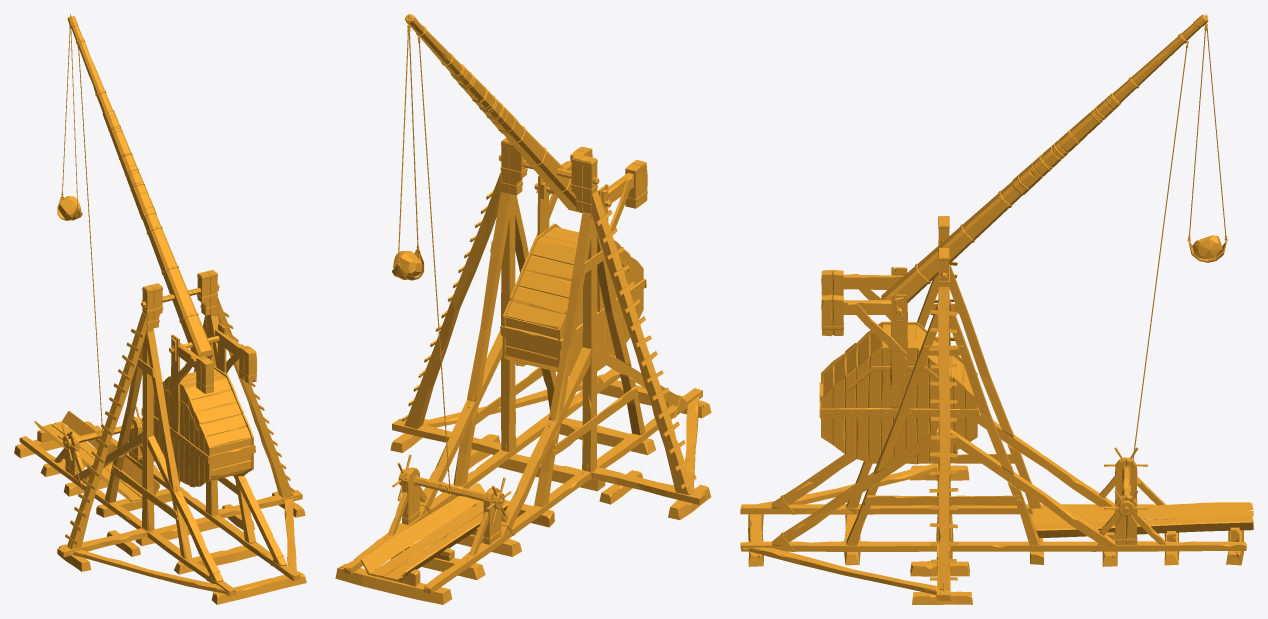
The model's file is SM_Trebuchet.fbx.
The picture shows the model from 3 angles, left to right: view 1: azimuth 30°, elevation 25°; view 2: azimuth 150°, elevation 25°; view 3: azimuth 270°, elevation 25°; orthographic projection. The views are drawn at different scales.
Parts seen in each view (by area): view 1: trebuchet-base, trebuchet-counterweight, trebuchet-arm, trebuchet-sling, trebuchet-rope, trebuchet-winch; view 2: trebuchet-base, trebuchet-counterweight, trebuchet-arm, trebuchet-winch, trebuchet-sling, trebuchet-rope, trebuchet-stone; view 3: trebuchet-base, trebuchet-counterweight, trebuchet-arm, trebuchet-sling, trebuchet-winch, trebuchet-rope.
Boxes of the visible parts, x1=… form: trebuchet-base: x1=14, y1=270, x2=306, y2=604; trebuchet-counterweight: x1=141, y1=323, x2=256, y2=487; trebuchet-arm: x1=67, y1=14, x2=228, y2=358; trebuchet-sling: x1=57, y1=25, x2=82, y2=220; trebuchet-rope: x1=77, y1=45, x2=102, y2=430; trebuchet-winch: x1=57, y1=406, x2=142, y2=460; trebuchet-base: x1=335, y1=137, x2=711, y2=604; trebuchet-counterweight: x1=500, y1=147, x2=647, y2=376; trebuchet-arm: x1=405, y1=14, x2=611, y2=212; trebuchet-winch: x1=392, y1=454, x2=511, y2=523; trebuchet-sling: x1=392, y1=25, x2=424, y2=280; trebuchet-rope: x1=417, y1=37, x2=450, y2=489; trebuchet-stone: x1=393, y1=251, x2=422, y2=276; trebuchet-base: x1=740, y1=216, x2=1253, y2=604; trebuchet-counterweight: x1=819, y1=267, x2=978, y2=464; trebuchet-arm: x1=881, y1=14, x2=1208, y2=316; trebuchet-sling: x1=1187, y1=24, x2=1227, y2=262; trebuchet-winch: x1=1104, y1=447, x2=1147, y2=526; trebuchet-rope: x1=1129, y1=42, x2=1188, y2=484.
Size of the model in its own units: 7.4 by 12.96 by 11.45.
